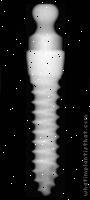Hiossen: (19, 3, 68, 198)
